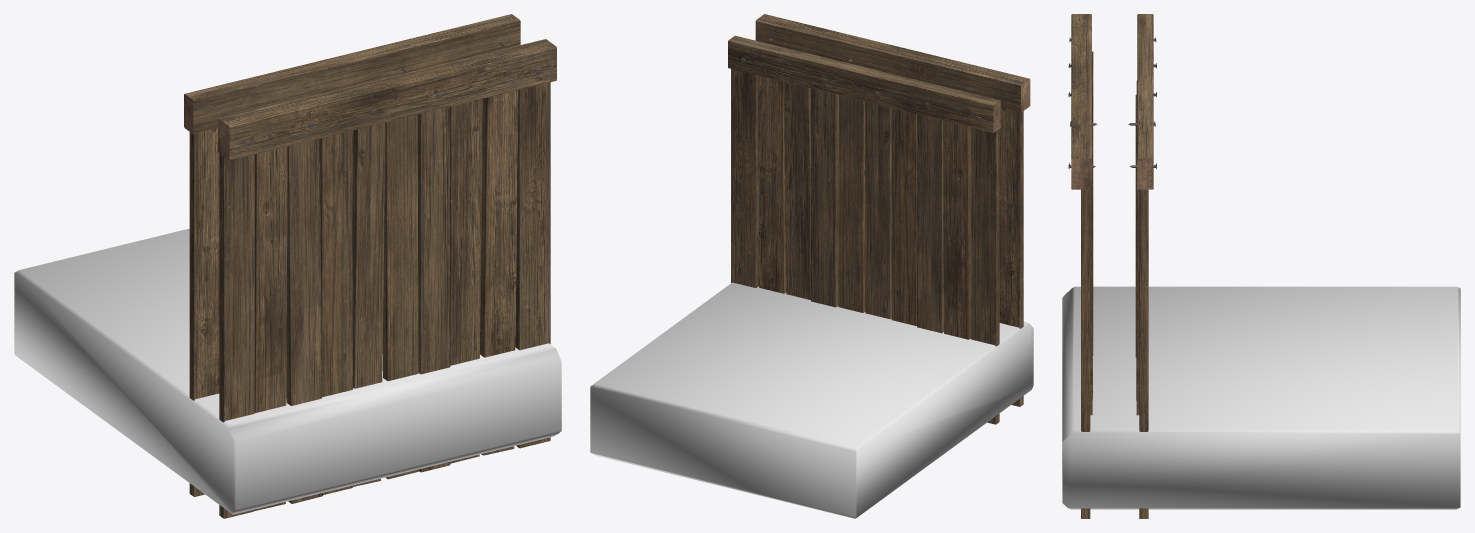
File: SM_Wall_LowPart_F.fbx
3 views of the same model, side by side, from view 1: azimuth 30°, elevation 25°; view 2: azimuth 150°, elevation 25°; view 3: azimuth 270°, elevation 25° (orthographic). The views are drawn at different scales.
Visible parts, largest first — view 1: SM_Wall_LowPart_F, SM_Wall_LowPart_F_ConvexHulls; view 2: SM_Wall_LowPart_F, SM_Wall_LowPart_F_ConvexHulls; view 3: SM_Wall_LowPart_F_ConvexHulls, SM_Wall_LowPart_F.
Part boxes in pixels (x1=…): SM_Wall_LowPart_F: x1=184, y1=14, x2=556, y2=518; SM_Wall_LowPart_F_ConvexHulls: x1=14, y1=228, x2=561, y2=514; SM_Wall_LowPart_F: x1=728, y1=14, x2=1030, y2=424; SM_Wall_LowPart_F_ConvexHulls: x1=590, y1=282, x2=1033, y2=518; SM_Wall_LowPart_F_ConvexHulls: x1=1062, y1=286, x2=1460, y2=509; SM_Wall_LowPart_F: x1=1068, y1=14, x2=1156, y2=518.
Bounding box in the file's own units: 1.5 × 1.74 × 1.75.
